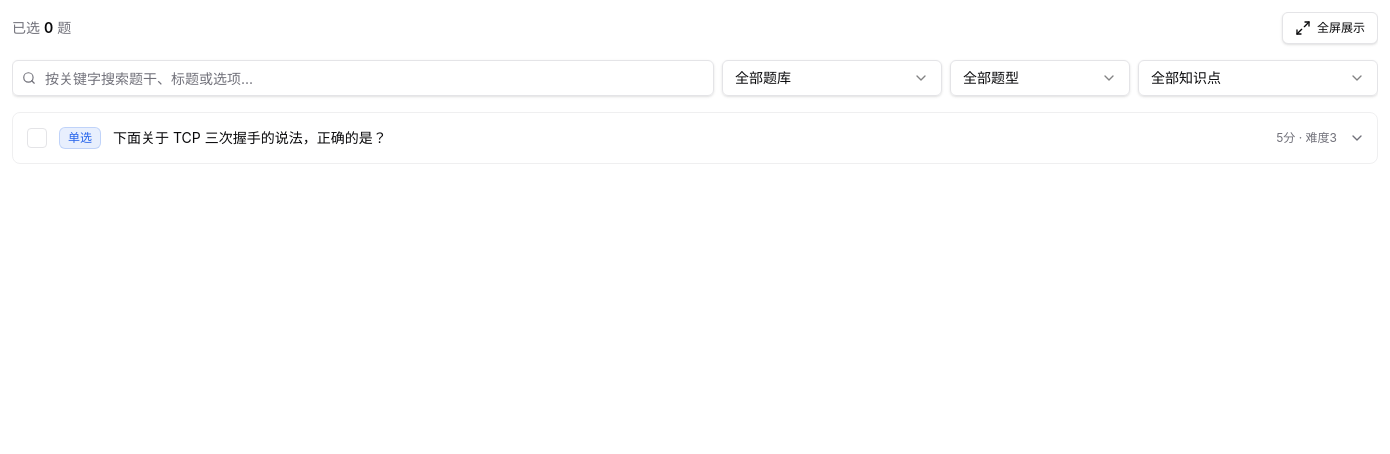
Test: QuestionSelector › shows a full question preview after clicking a manual selection row
Click the button "单选 下面关于 TCP 三次握手的说法，正确的是？ 5分 · 难度3" at [80, 138], box [27,127,1365,149]
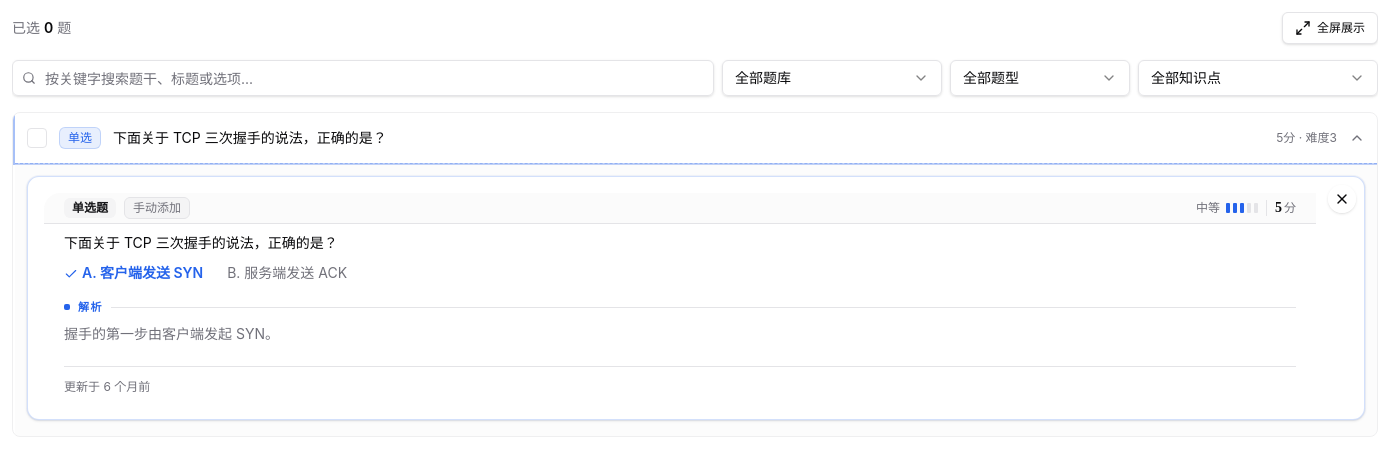
Expected: the text "解析" is shown, [78,299,103,315]
Expected: the text "握手的第一步由客户端发起 SYN。" is shown, [64,325,279,342]
Click the button named "关闭题目详情" at [1342, 199], box [1328,185,1356,213]
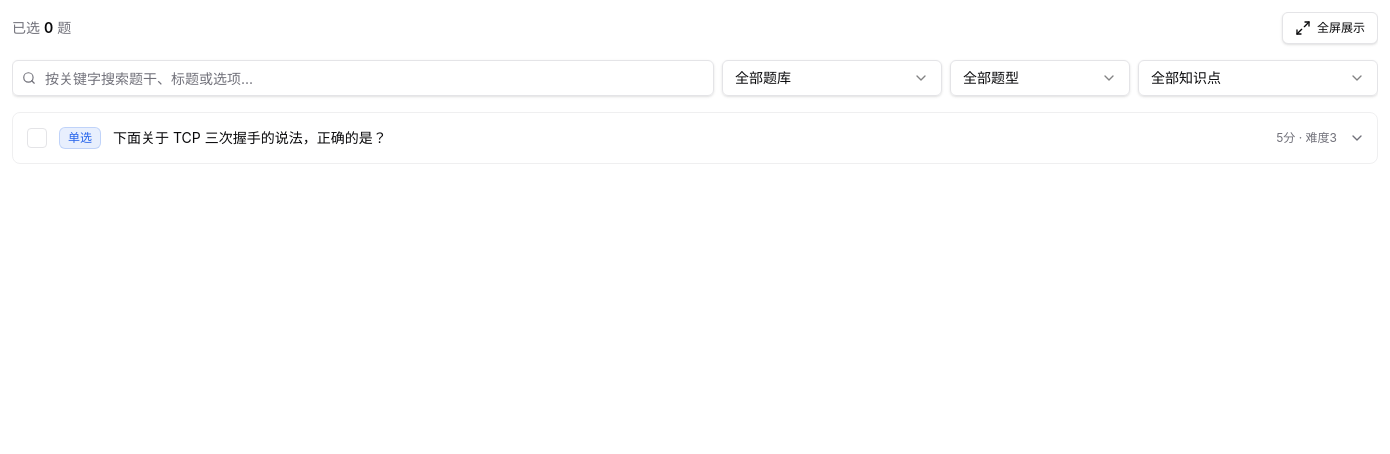
Expected: the text "解析" is gone
